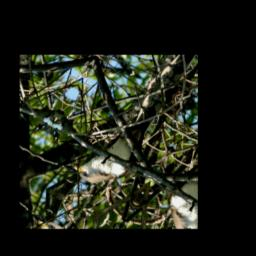Cuckoo: (66, 78, 176, 197)
